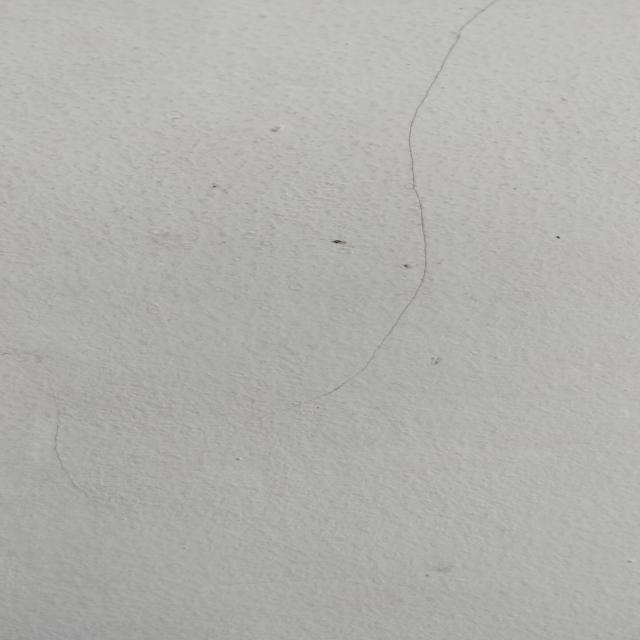Crack: (282, 1, 509, 414)
